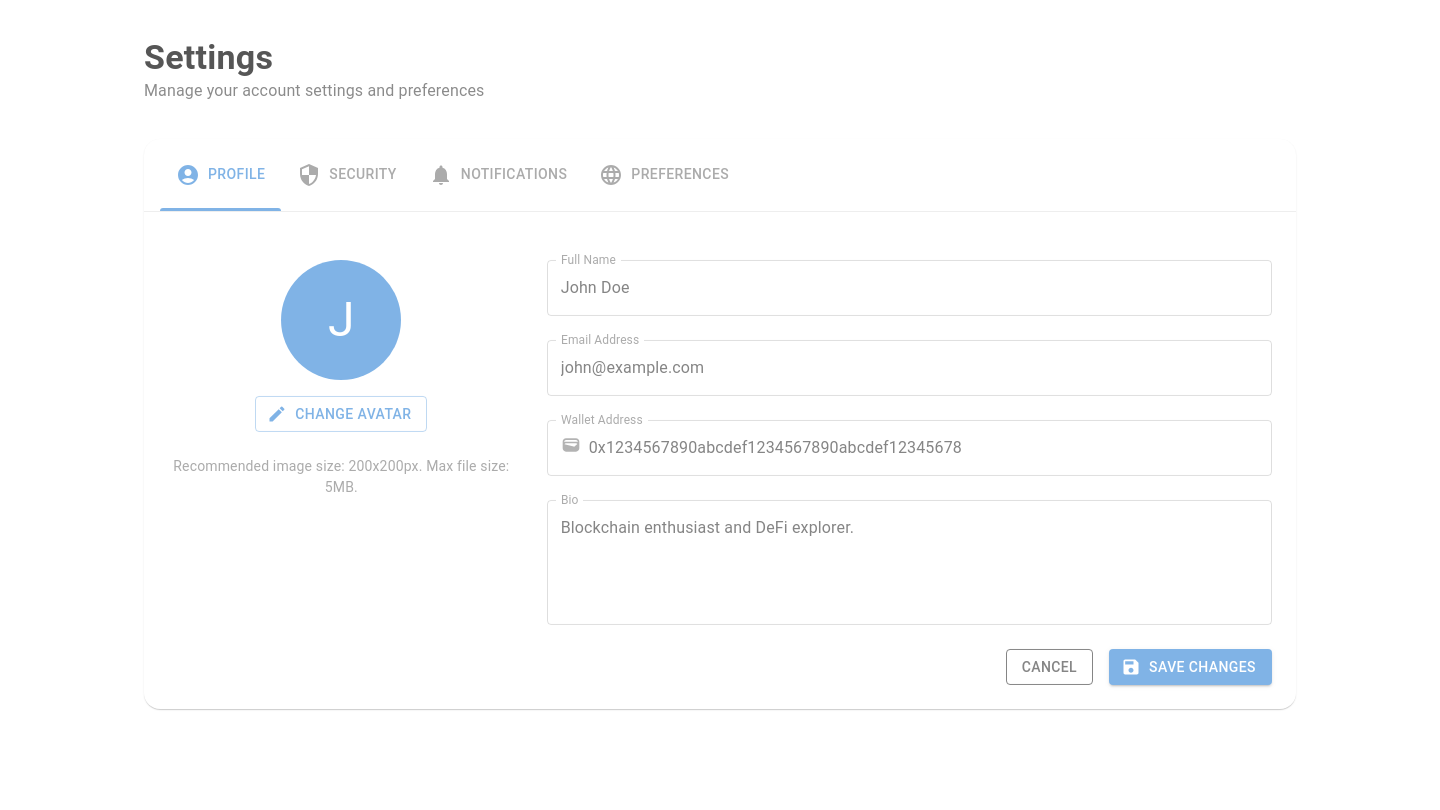
Test case: Settings Page › switches to Security tab on click
Click the tab "Security". click: [347, 175]
box: [281, 139, 413, 211]
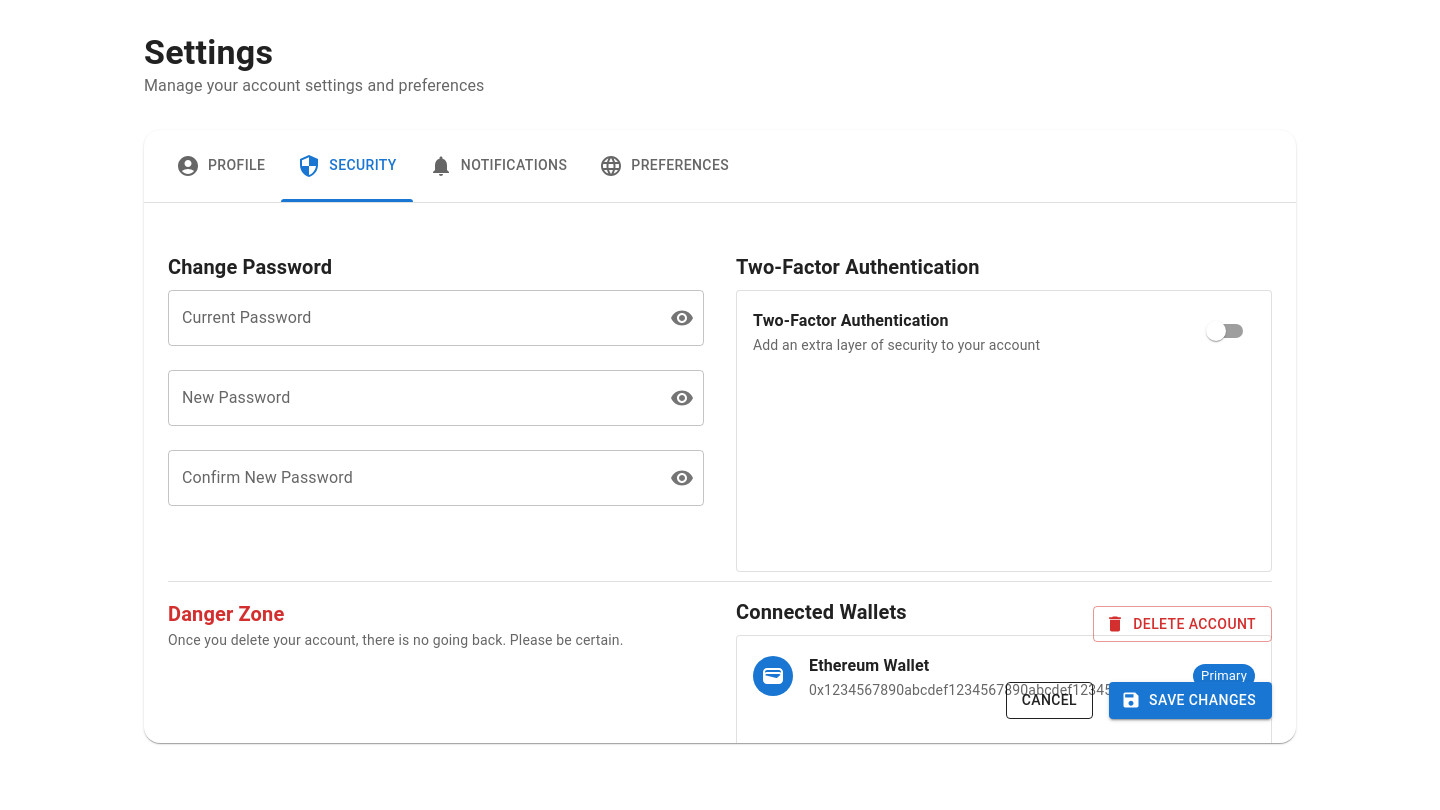
Result: the password field labelled "Current Password" is shown at [168, 290, 662, 346]
